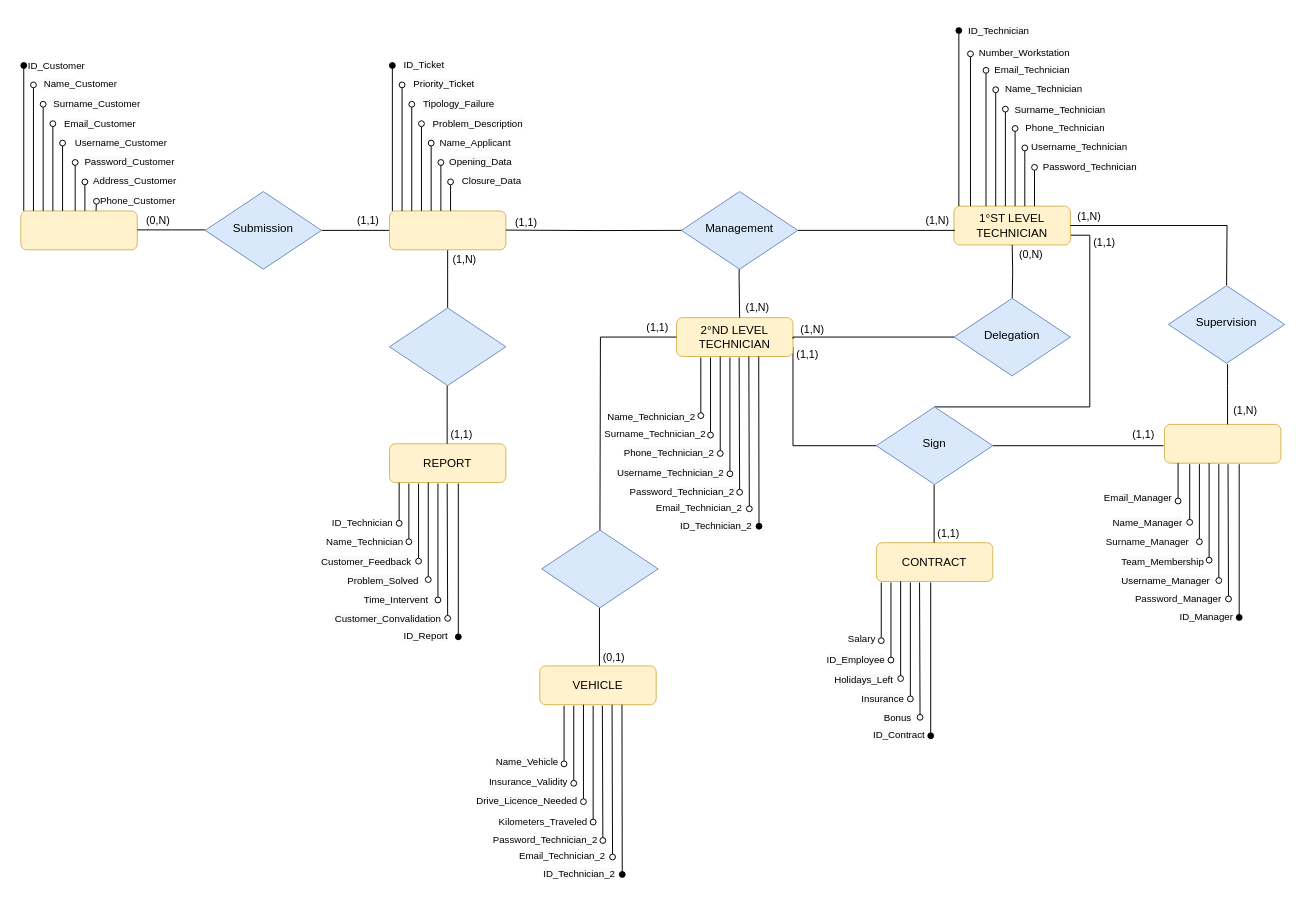
This 1302x905 diagram has some shape labels left out. Here are the shapes that lost their labels. From the top down, the box of each, then its label:
(20, 210, 137, 250): CUSTOMER
(388, 210, 506, 250): TICKET
(388, 307, 506, 386): Correspondence
(1164, 423, 1281, 463): MANAGER
(541, 529, 658, 608): Drive
